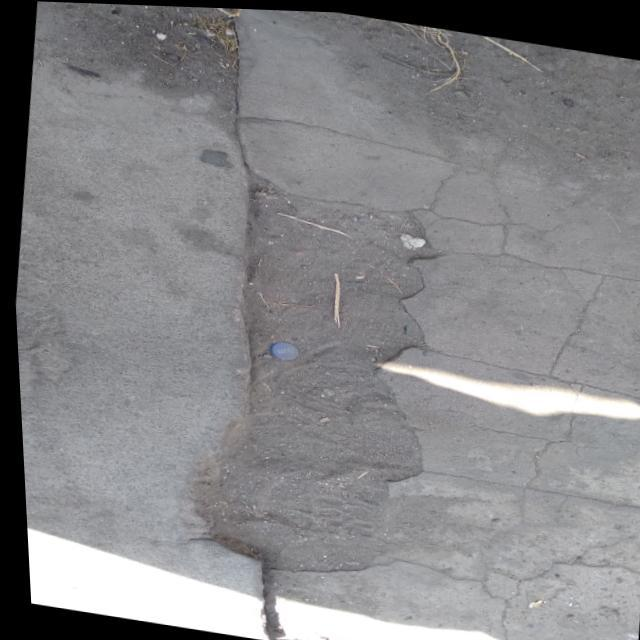hole: (162, 172, 456, 590)
